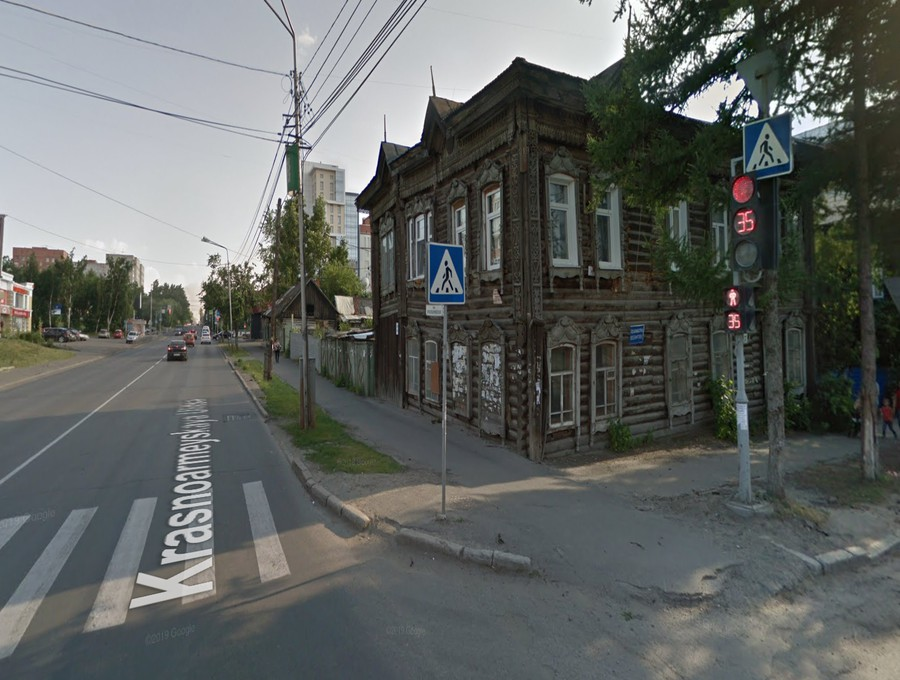Traffic Light-red: (717, 282, 747, 337)
